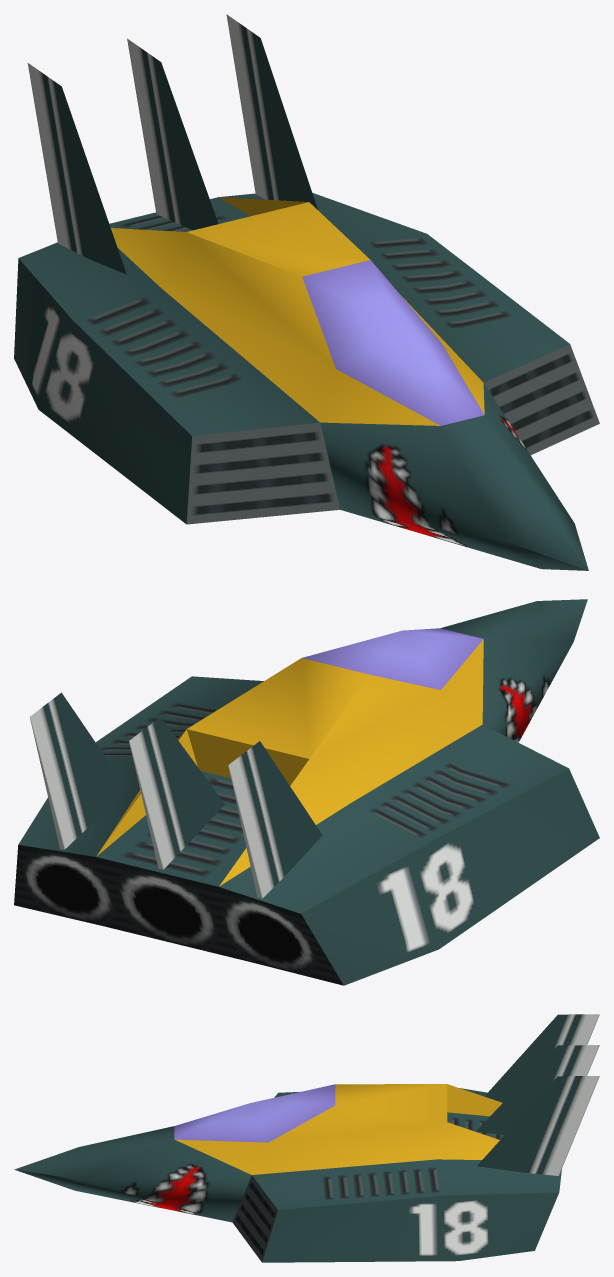
3 views of the same model, one above another, from view 1: azimuth 30°, elevation 25°; view 2: azimuth 150°, elevation 25°; view 3: azimuth 270°, elevation 25° (orthographic). The views are drawn at different scales.
Parts seen in each view (by area): view 1: Joint_0_Object_0; view 2: Joint_0_Object_0; view 3: Joint_0_Object_0.
Boxes of the visible parts, x1=… form: Joint_0_Object_0: x1=14, y1=14, x2=599, y2=570; Joint_0_Object_0: x1=14, y1=599, x2=599, y2=985; Joint_0_Object_0: x1=14, y1=1014, x2=599, y2=1262.
Size of the model in its own units: 33.27 by 18.66 by 64.25.
Materials: 1 (1 with a texture image).
